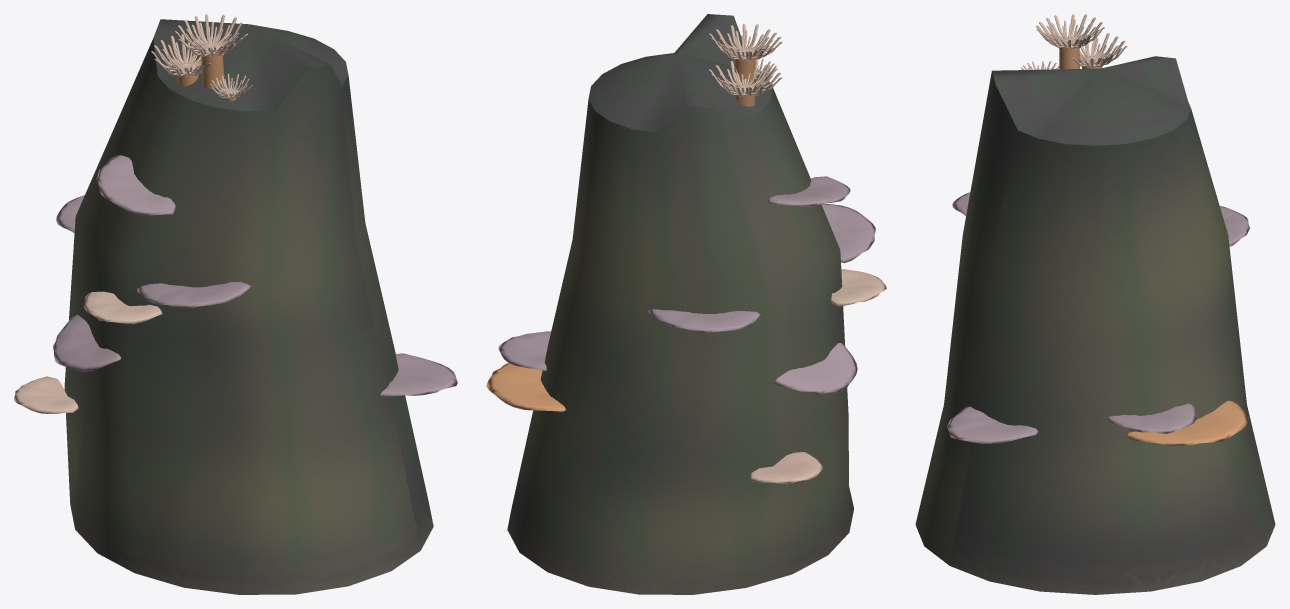
The model's file is Korall_Sten.fbx.
The picture shows the model from 3 angles, left to right: view 1: azimuth 30°, elevation 25°; view 2: azimuth 150°, elevation 25°; view 3: azimuth 270°, elevation 25°; orthographic projection. The views are drawn at different scales.
Parts seen in each view (by area): view 1: pCylinder1, pCylinder9, pCube22, pCylinder2, pCylinder6, pCylinder8, pCylinder10, pCylinder7, pCube23, pCube24; view 2: pCylinder1, pCylinder2, pCylinder4, pCylinder8, pCylinder3, pCube22, pCylinder10, pCylinder5, pCylinder9, pCube23, pCylinder7; view 3: pCylinder1, pCylinder4, pCylinder6, pCube22, pCylinder5, pCube23, pCylinder3.
Part boxes in pixels (bbox=[...]): pCylinder1: bbox=[64, 19, 433, 594]; pCylinder9: bbox=[96, 155, 176, 215]; pCube22: bbox=[175, 14, 248, 88]; pCylinder2: bbox=[53, 314, 120, 371]; pCylinder6: bbox=[379, 353, 457, 396]; pCylinder8: bbox=[137, 281, 251, 308]; pCylinder10: bbox=[14, 376, 78, 413]; pCylinder7: bbox=[83, 291, 162, 323]; pCube23: bbox=[151, 34, 224, 86]; pCube24: bbox=[210, 73, 252, 101]; pCylinder1: bbox=[507, 14, 853, 594]; pCylinder2: bbox=[774, 343, 857, 394]; pCylinder4: bbox=[486, 363, 565, 411]; pCylinder8: bbox=[821, 203, 875, 263]; pCylinder3: bbox=[648, 309, 760, 332]; pCube22: bbox=[709, 23, 782, 84]; pCylinder10: bbox=[749, 452, 822, 484]; pCylinder5: bbox=[498, 331, 550, 371]; pCylinder9: bbox=[768, 176, 850, 206]; pCube23: bbox=[709, 60, 782, 106]; pCylinder7: bbox=[831, 269, 886, 306]; pCylinder1: bbox=[915, 56, 1275, 594]; pCylinder4: bbox=[1125, 400, 1248, 445]; pCylinder6: bbox=[946, 406, 1038, 444]; pCube22: bbox=[1036, 14, 1104, 69]; pCylinder5: bbox=[1105, 403, 1196, 433]; pCube23: bbox=[1059, 33, 1127, 68]; pCylinder3: bbox=[1220, 206, 1249, 246].
Size of the model in its own units: 16.58 by 23.6 by 16.18.
6 materials, 1 textured.
